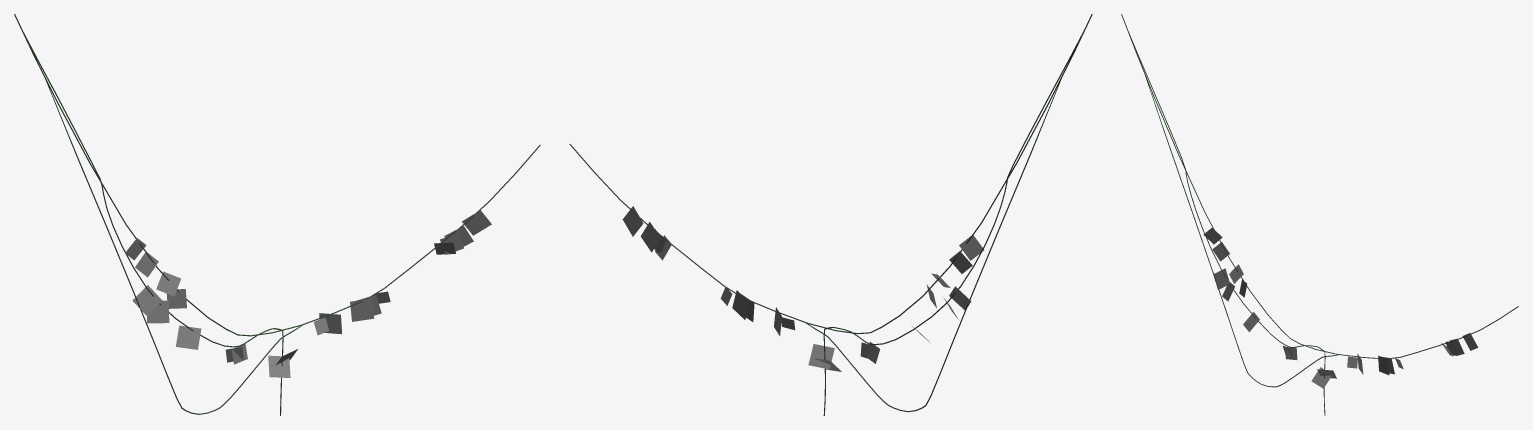
File: SM_lians_02.fbx
3 views of the same model, side by side, from view 1: azimuth 30°, elevation 25°; view 2: azimuth 150°, elevation 25°; view 3: azimuth 330°, elevation 25° (orthographic). The views are drawn at different scales.
Visible parts, largest first — view 1: Line026; view 2: Line026; view 3: Line026.
Part boxes in pixels (bbox=[...]): Line026: bbox=[14, 14, 540, 415]; Line026: bbox=[569, 14, 1092, 415]; Line026: bbox=[1121, 14, 1518, 415].
Size of the model in its own units: 677 by 27.23 by 575.
